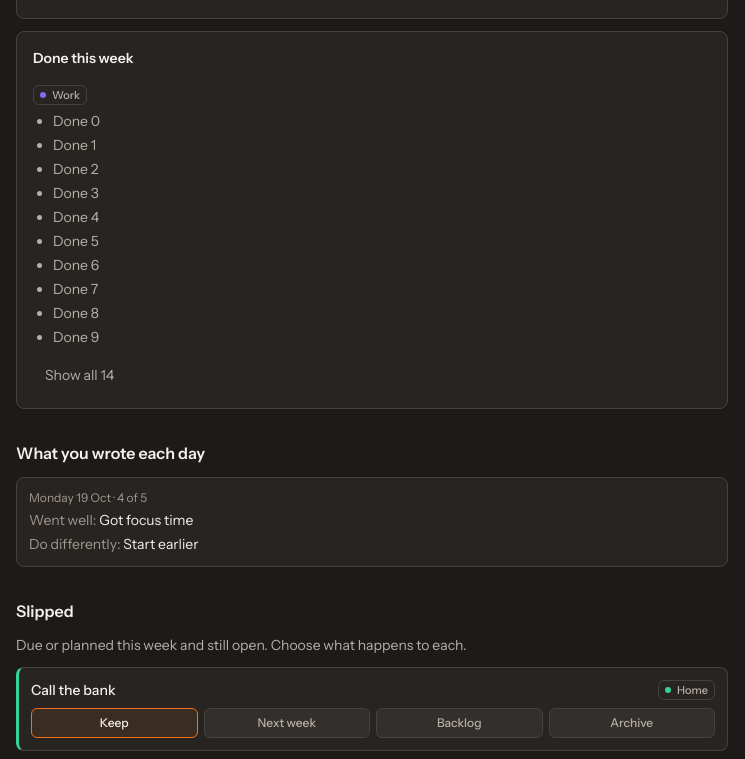
Test case: ReviewPage › collapses a long done list to 10 until you ask for more
(page scrolled)
expect the list item "Done 0" is shown: met, box x1=53 y1=112 x2=100 y2=130
expect the text "Done 13" is not shown: met
Click the button "Show all 14".
click(80, 376)  # box x1=33 y1=359 x2=126 y2=392
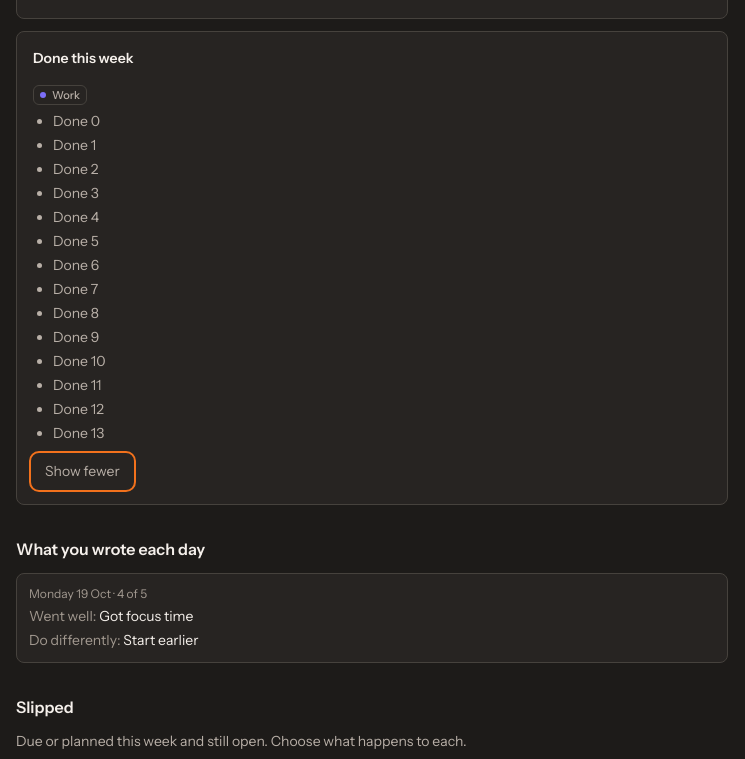
expect the list item "Done 13" is shown: met, box x1=53 y1=424 x2=104 y2=442
